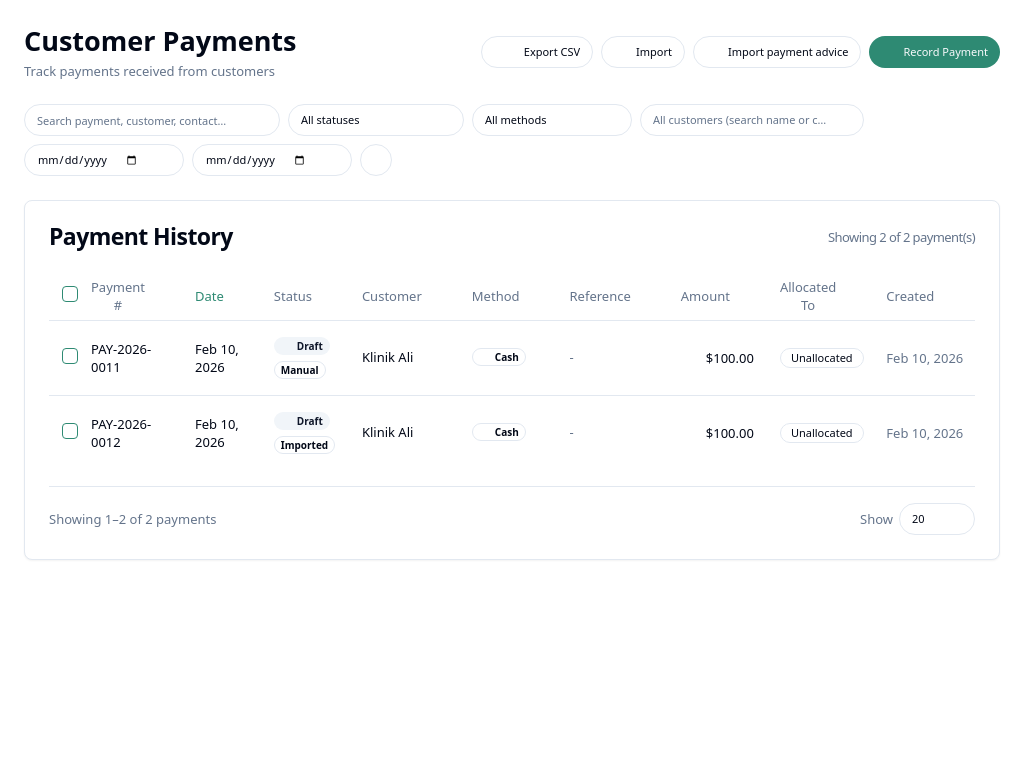
CustomerPayments — draft label and source (#492 PAY-UX6) › offers "Draft (not yet posted)" in the status filter
Expected: the text "PAY-2026-0011" is shown, [78,320,182,395]
What coordinates should you click on to do the following:
click the dropdown labelled "All statuses"
I would click on:
 (376, 120)
Its box is [288,104,464,136].
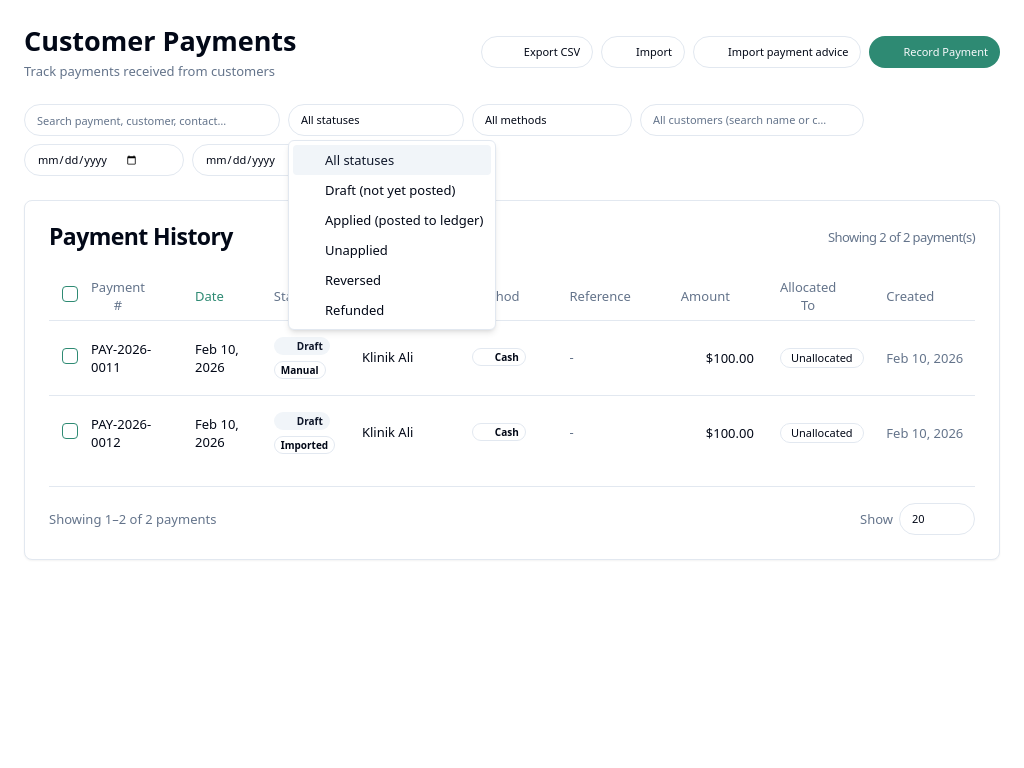
Result: the option "Draft (not yet posted)" is shown at [325,181,455,199]
